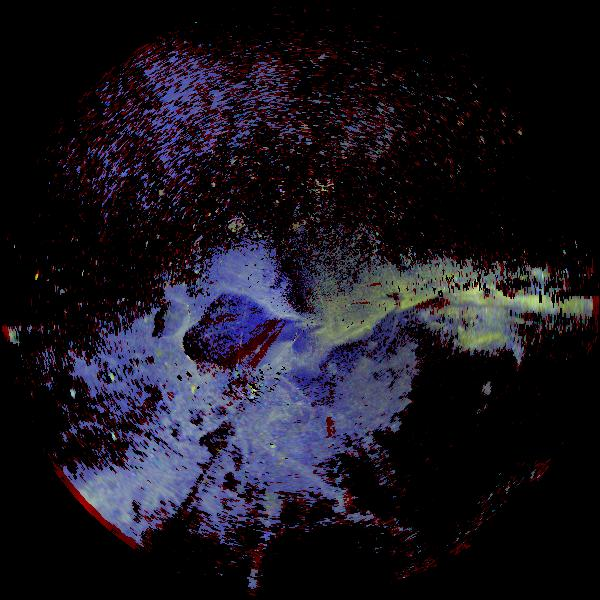roost: (106, 374, 115, 383), (71, 391, 77, 397)
